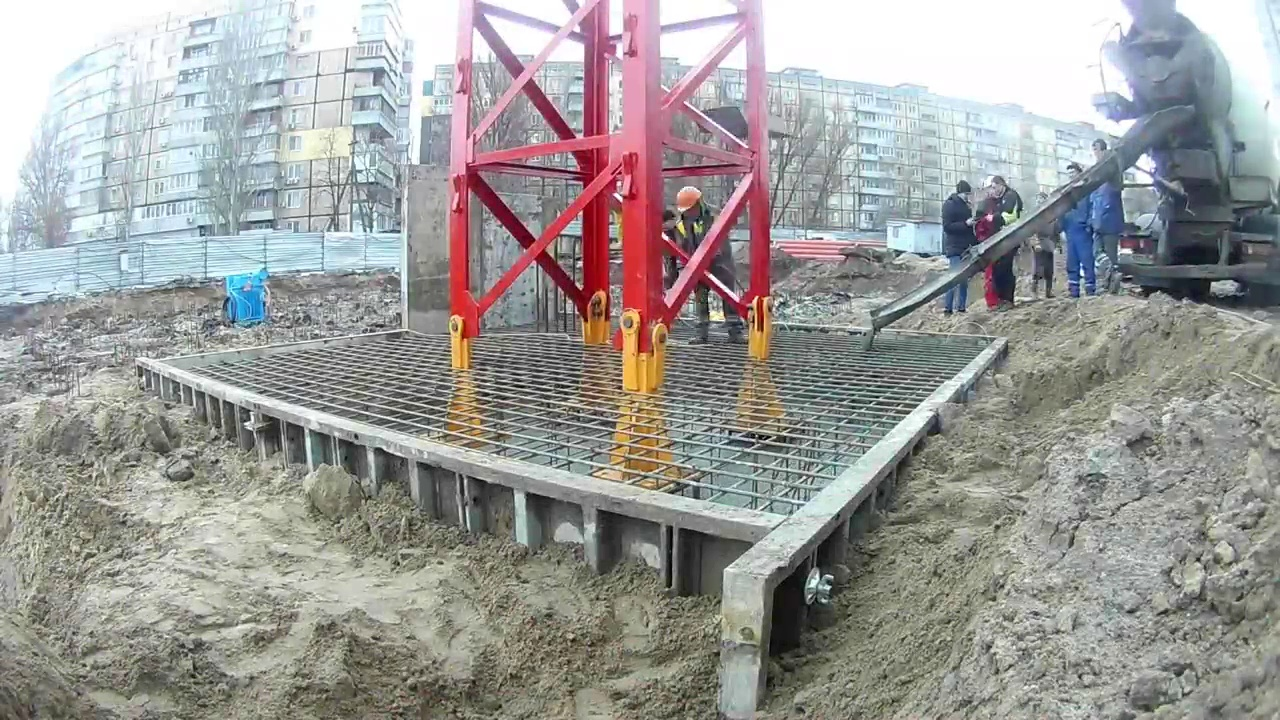helmet: (676, 190, 701, 214)
helmet-off: (1066, 163, 1084, 186), (990, 177, 1008, 199), (954, 180, 972, 202), (1092, 140, 1107, 161), (1036, 193, 1050, 211)
helmet-on: (676, 185, 703, 220)
person: (676, 187, 753, 350), (981, 176, 1024, 312), (941, 180, 979, 321), (1061, 163, 1096, 301), (1091, 139, 1121, 296), (1030, 193, 1056, 300)
